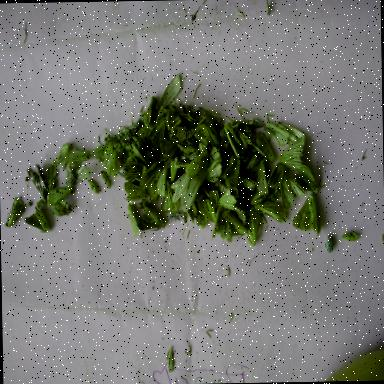abw: (136, 198, 166, 232), (64, 162, 92, 188), (132, 128, 156, 157), (174, 144, 201, 169), (209, 178, 239, 200), (110, 142, 128, 178), (186, 106, 206, 138), (228, 198, 248, 226), (115, 128, 134, 157), (239, 152, 258, 178), (118, 161, 142, 181), (164, 103, 180, 132), (174, 113, 196, 133), (156, 164, 169, 197), (137, 110, 152, 138), (123, 172, 151, 186), (217, 140, 233, 162), (186, 202, 198, 225), (237, 185, 255, 199), (100, 170, 112, 190), (263, 126, 275, 144), (170, 156, 178, 182)
pbw: (292, 194, 322, 237), (278, 136, 311, 174), (27, 163, 58, 203), (172, 174, 200, 212), (184, 149, 210, 188), (280, 175, 308, 211), (224, 122, 252, 158), (194, 113, 220, 147), (145, 116, 166, 156), (24, 202, 51, 233), (216, 154, 240, 188), (211, 206, 232, 243), (141, 166, 163, 201), (251, 132, 275, 164), (276, 122, 306, 147), (160, 180, 182, 214), (255, 200, 286, 224), (222, 210, 246, 240), (3, 197, 26, 228), (218, 188, 245, 214), (292, 167, 318, 193), (160, 140, 182, 170), (245, 207, 261, 248), (46, 186, 74, 208), (204, 146, 222, 180), (255, 158, 271, 196), (90, 140, 114, 164), (192, 196, 208, 230), (251, 187, 281, 205), (53, 144, 72, 172), (127, 204, 143, 236), (103, 146, 119, 178), (266, 162, 284, 190), (123, 182, 148, 202), (198, 197, 216, 223), (65, 149, 90, 166), (144, 96, 157, 125), (246, 146, 258, 154), (182, 212, 186, 224)
